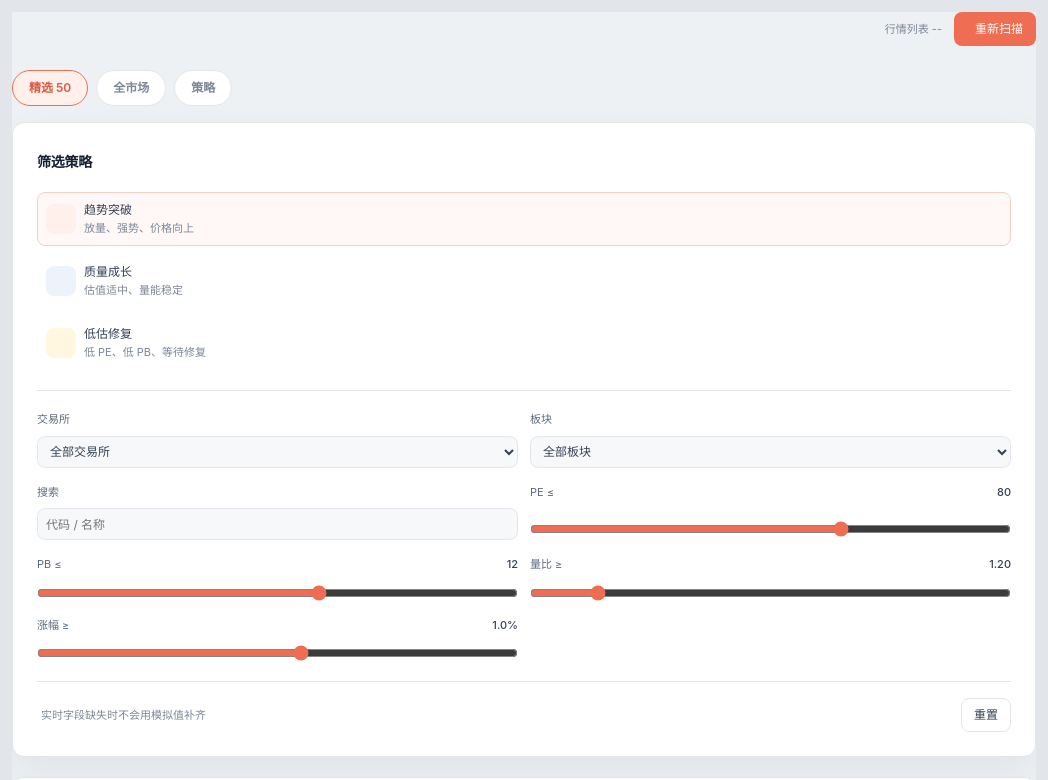
Test: ViewScreener › 策略 stale 降级显示警告横幅
Click the button "策略" at [203, 88], box [174,70,232,106]
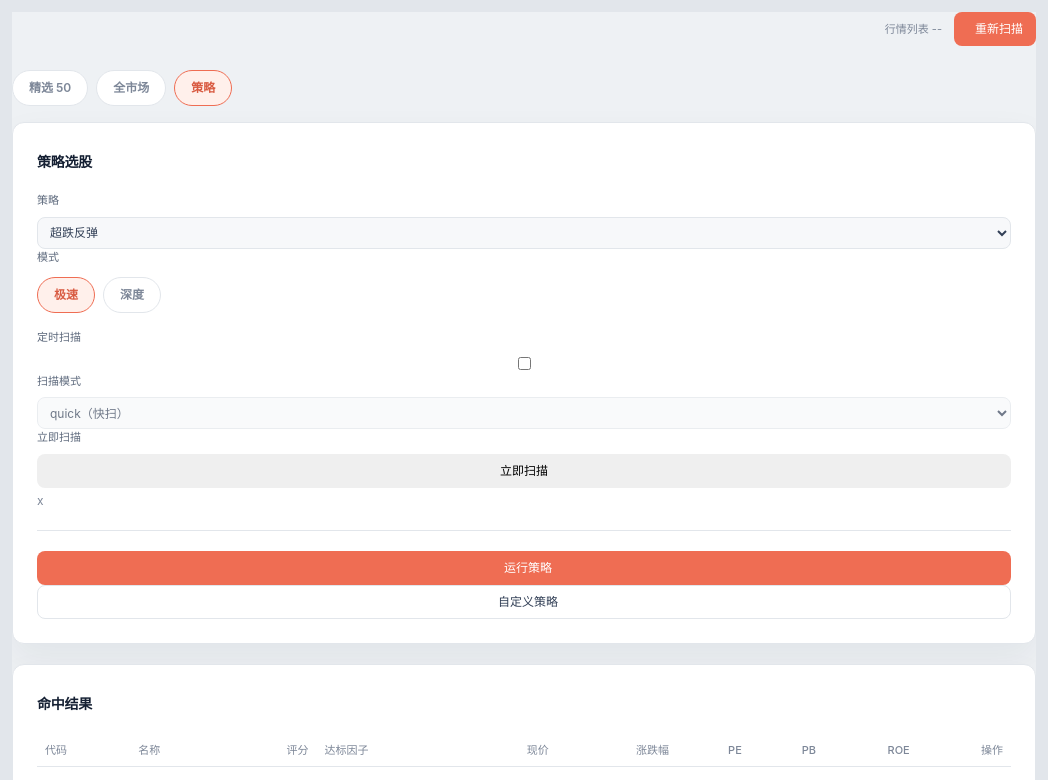
Click the button "运行策略" at [524, 568], box [37,550,1011,584]
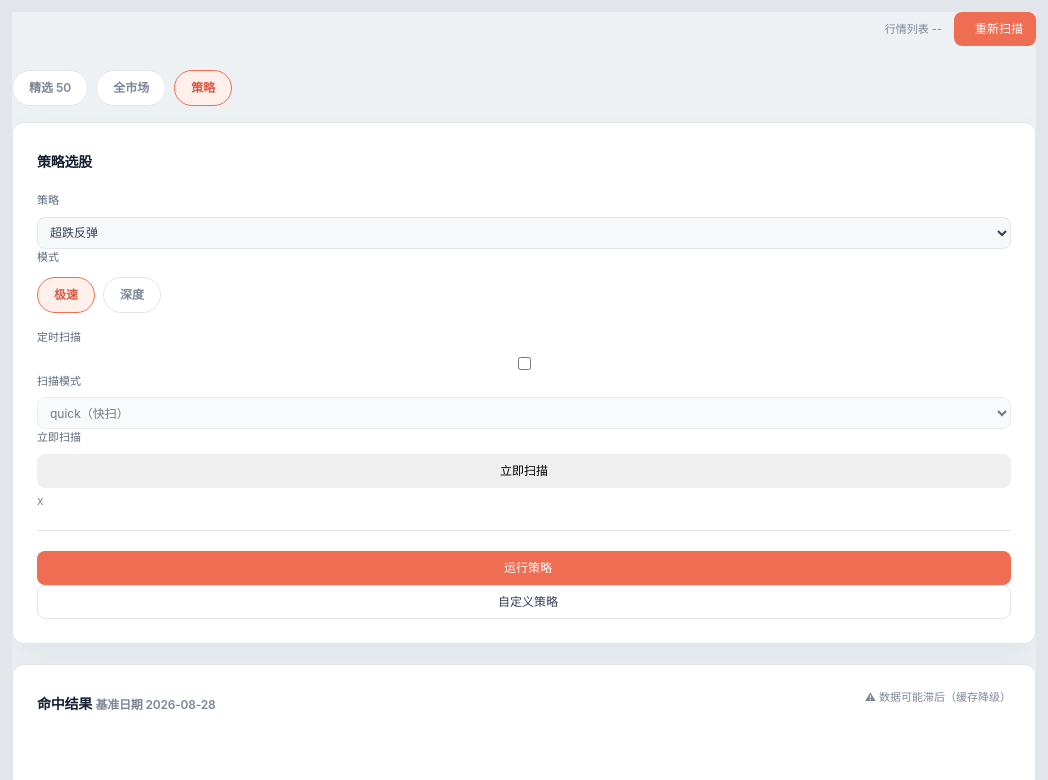
Check: the text "数据可能滞后" is shown, box [865,690,1011,704]
